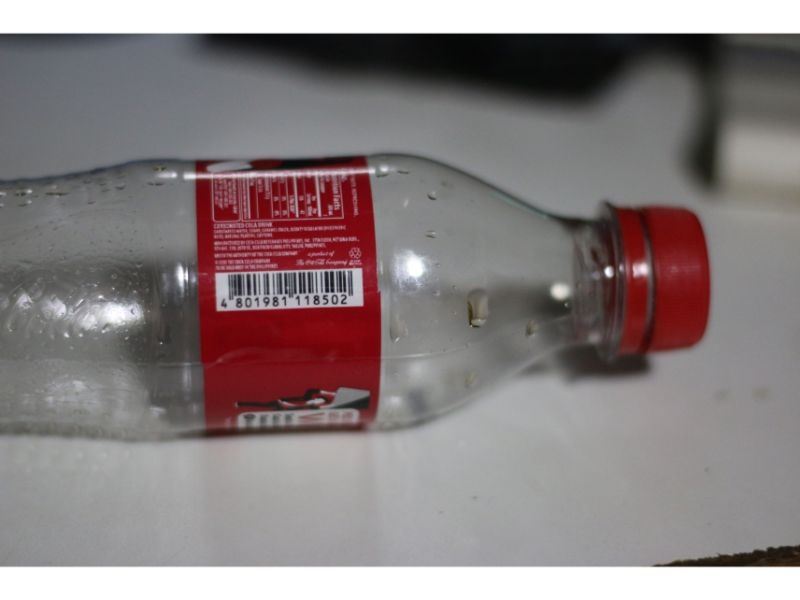PET #1: (1, 151, 717, 441)
